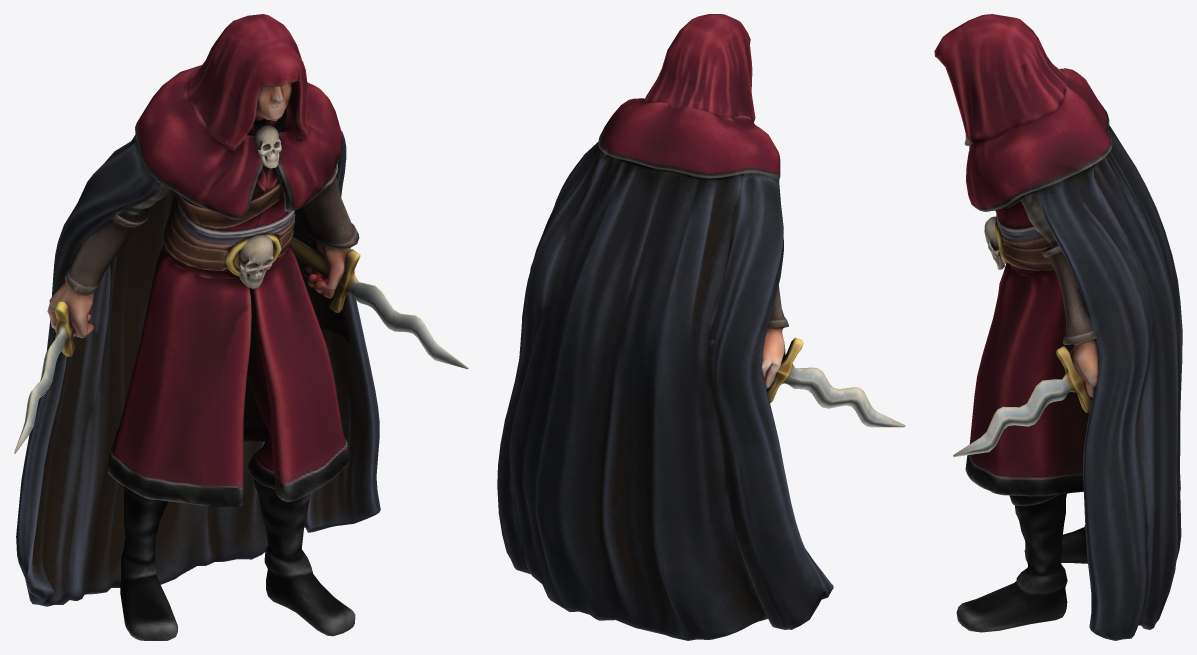
The model's file is MZ4250 - Cult Fanatic Male.glb.
The picture shows the model from 3 angles, left to right: view 1: azimuth 30°, elevation 25°; view 2: azimuth 150°, elevation 25°; view 3: azimuth 270°, elevation 25°; orthographic projection. The views are drawn at different scales.
Visible parts, largest first — view 1: body_low.001, dagger_low.001, skull_low.001; view 2: body_low.001, dagger_low.001; view 3: body_low.001, dagger_low.001, skull_low.001.
Part boxes in pixels (x1,y1,x2,y2): body_low.001: [16, 14, 380, 640]; dagger_low.001: [14, 236, 468, 453]; skull_low.001: [239, 125, 281, 288]; body_low.001: [497, 14, 833, 640]; dagger_low.001: [710, 337, 905, 427]; body_low.001: [934, 14, 1182, 640]; dagger_low.001: [953, 346, 1091, 456]; skull_low.001: [964, 134, 1004, 269].
Size of the model in its own units: 4.49 by 6.35 by 2.47.
1 material, 1 textured.
